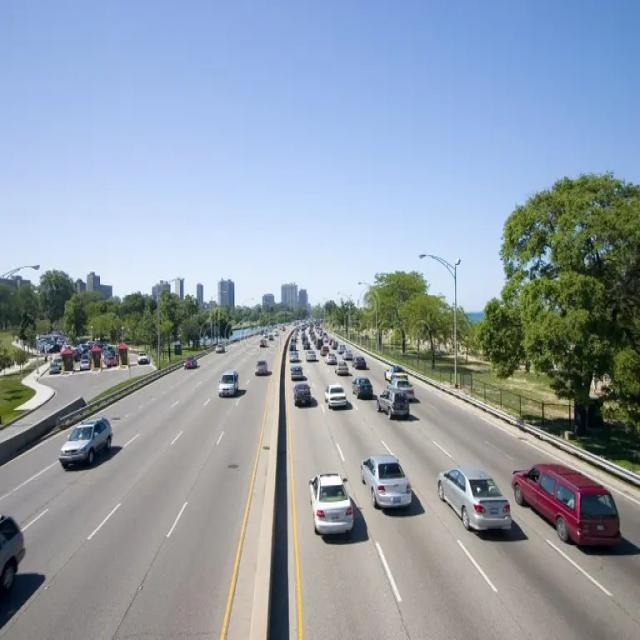Car: (513, 448, 623, 554), (437, 450, 513, 537), (356, 445, 415, 517), (306, 462, 355, 539), (59, 418, 118, 469), (377, 388, 411, 422), (324, 379, 351, 410), (218, 366, 242, 400), (291, 380, 318, 407), (353, 376, 374, 399), (252, 356, 270, 379), (335, 357, 349, 378)
Road-divider: (233, 362, 304, 640)
